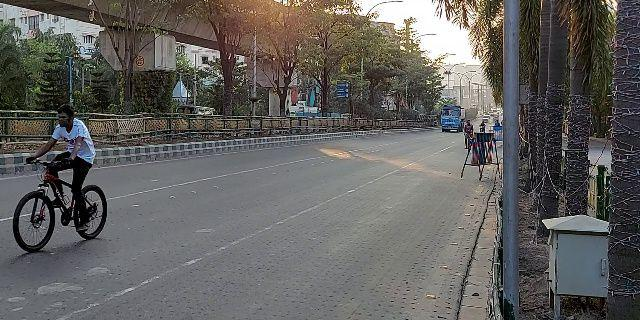Bus: (436, 103, 464, 137)
Cycle: (15, 102, 114, 257)
